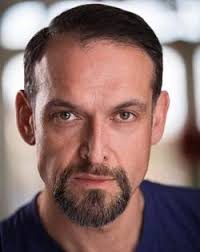middle_eastern_male: (30, 29, 154, 211)
